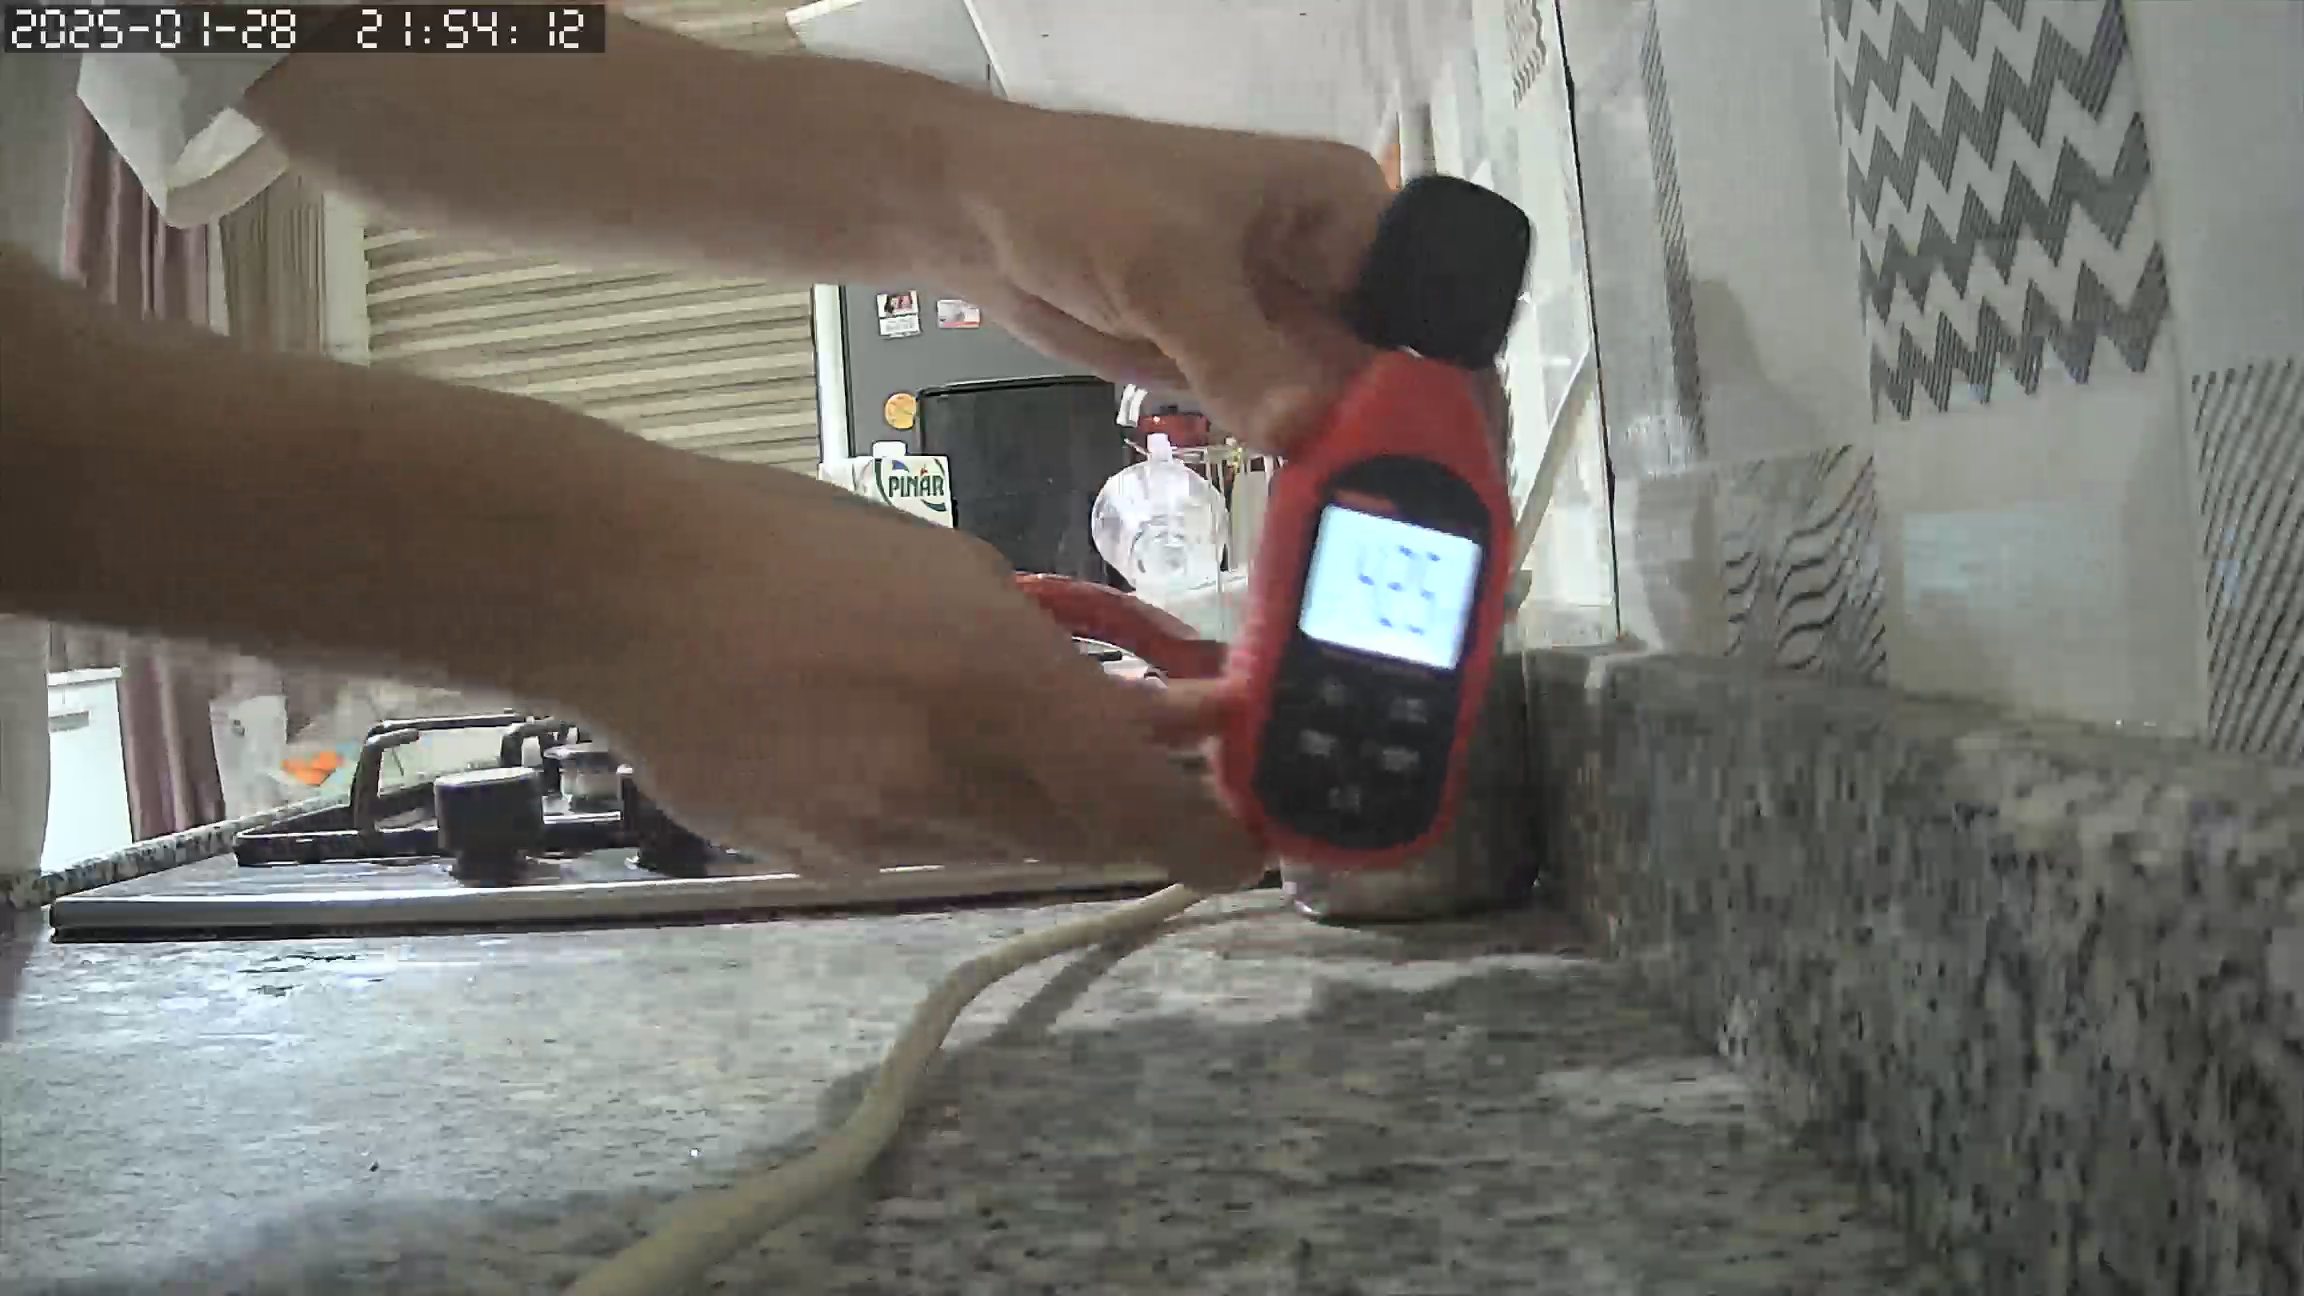screen: (1296, 502, 1476, 673)
